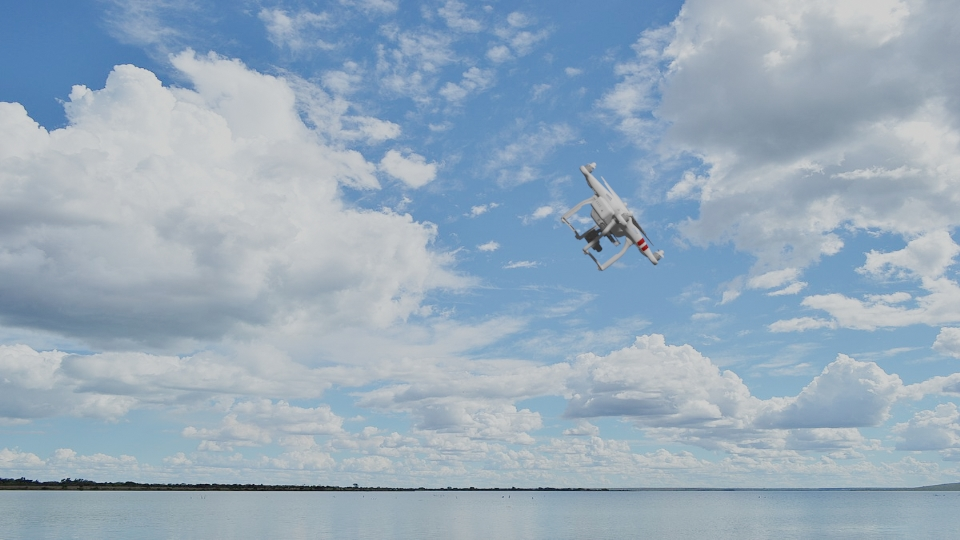drone: (559, 160, 667, 272)
